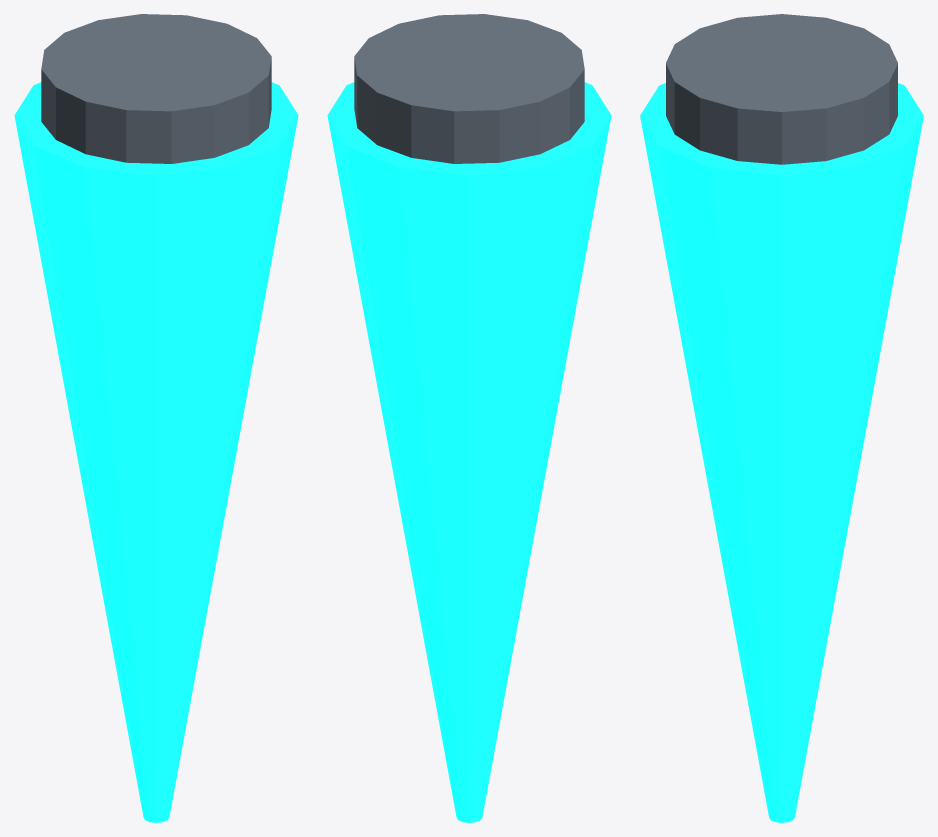
The model's file is thruster_plume.glb.
The picture shows the model from 3 angles, left to right: view 1: azimuth 30°, elevation 25°; view 2: azimuth 150°, elevation 25°; view 3: azimuth 270°, elevation 25°; orthographic projection.
Visible parts, largest first — view 1: Flame_OuterPlasma, Nozzle_Ring; view 2: Flame_OuterPlasma, Nozzle_Ring; view 3: Flame_OuterPlasma, Nozzle_Ring.
Boxes of the visible parts, x1=… form: Flame_OuterPlasma: x1=14, y1=82, x2=298, y2=822; Nozzle_Ring: x1=41, y1=14, x2=271, y2=163; Flame_OuterPlasma: x1=327, y1=82, x2=611, y2=822; Nozzle_Ring: x1=354, y1=14, x2=584, y2=163; Flame_OuterPlasma: x1=640, y1=83, x2=923, y2=822; Nozzle_Ring: x1=666, y1=14, x2=897, y2=164.
Bounding box in the file's own units: 0.22 × 0.645 × 0.22.
